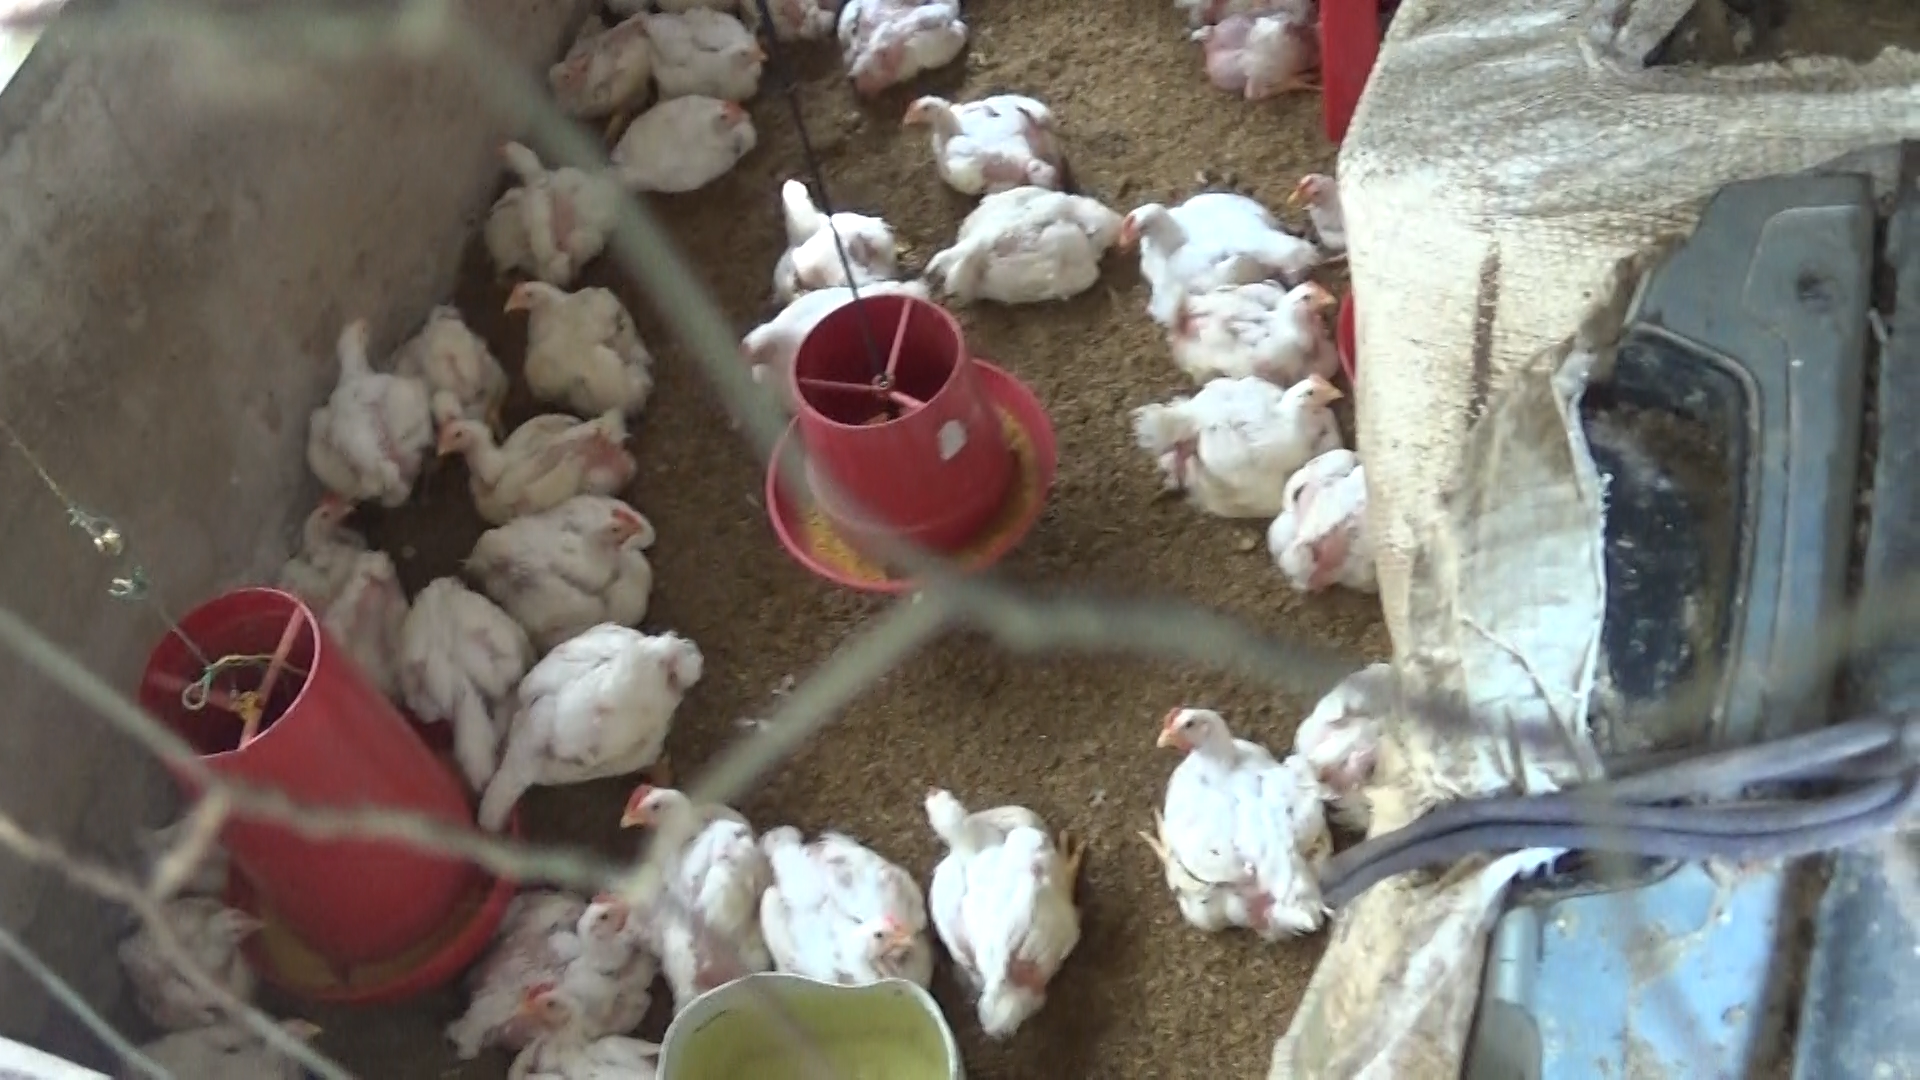Pollos: (467, 608, 707, 841), (897, 775, 1095, 1029), (1133, 705, 1332, 943), (742, 812, 938, 996), (1125, 368, 1350, 524), (612, 787, 761, 1002), (1109, 183, 1324, 332), (442, 893, 662, 1029), (290, 301, 435, 504), (913, 189, 1139, 314), (400, 560, 512, 791), (496, 266, 665, 413), (724, 276, 928, 389), (480, 497, 665, 622), (1247, 431, 1385, 597), (1160, 277, 1342, 397), (426, 404, 637, 502), (477, 129, 622, 272), (467, 975, 662, 1080), (895, 84, 1068, 189), (109, 1004, 338, 1080), (111, 893, 268, 1004), (761, 177, 910, 293), (611, 88, 766, 195), (389, 277, 509, 410), (831, 0, 965, 108), (541, 0, 667, 111), (272, 487, 392, 601), (638, 15, 767, 102), (1197, 3, 1313, 88), (1266, 161, 1350, 258)
